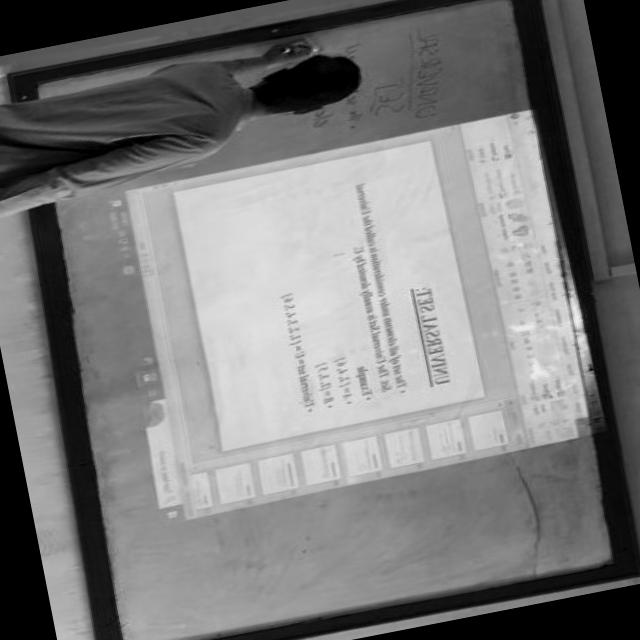Instructor: (0, 27, 380, 210)
Slide: (91, 109, 608, 530)
White-board: (19, 0, 636, 640)
